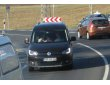License Plates: (43, 56, 57, 60), (97, 26, 107, 29)
